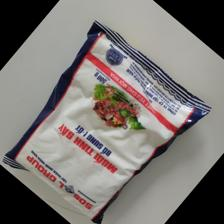Salt: (1, 20, 210, 224)
